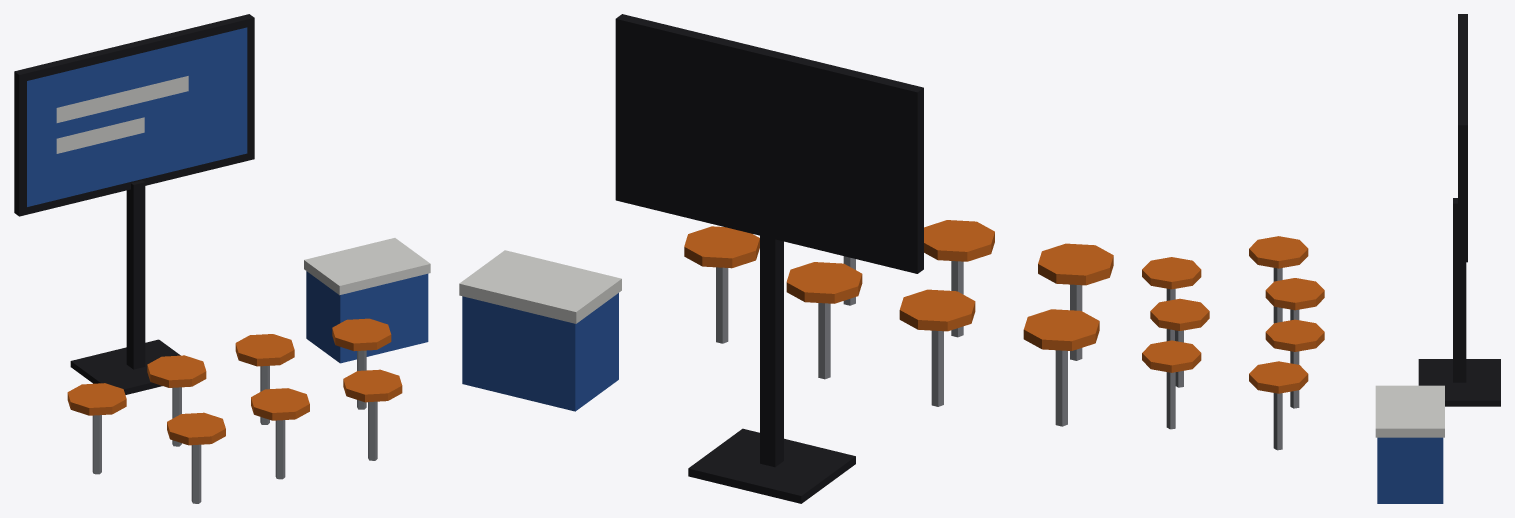
The model's file is prop_meetup-corner.glb.
3 views of the same model, side by side, from view 1: azimuth 30°, elevation 25°; view 2: azimuth 150°, elevation 25°; view 3: azimuth 270°, elevation 25° (orthographic). The views are drawn at different scales.
Parts seen in each view (by area): view 1: body; view 2: body; view 3: body.
Part boxes in pixels (x1,y1,x2,y2): body: (14,14,430,503); body: (459,14,1113,503); body: (1142,14,1500,503).
Size of the model in its own units: 2.79 by 2.12 by 2.18.
